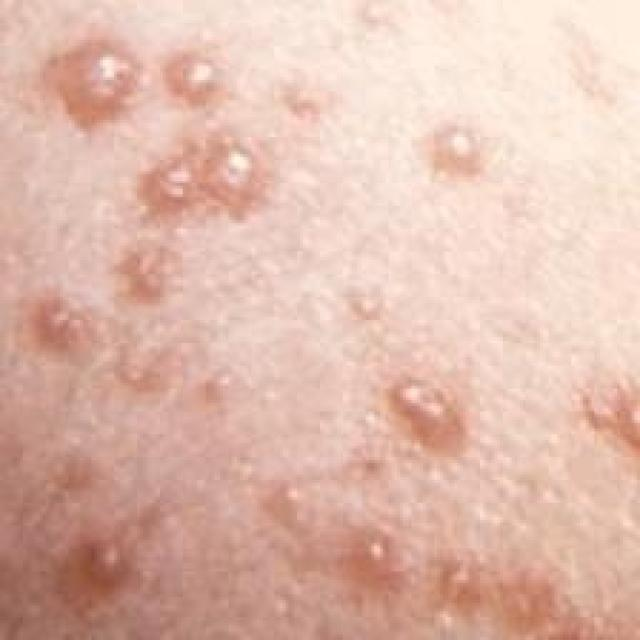others: (28, 37, 640, 640)
